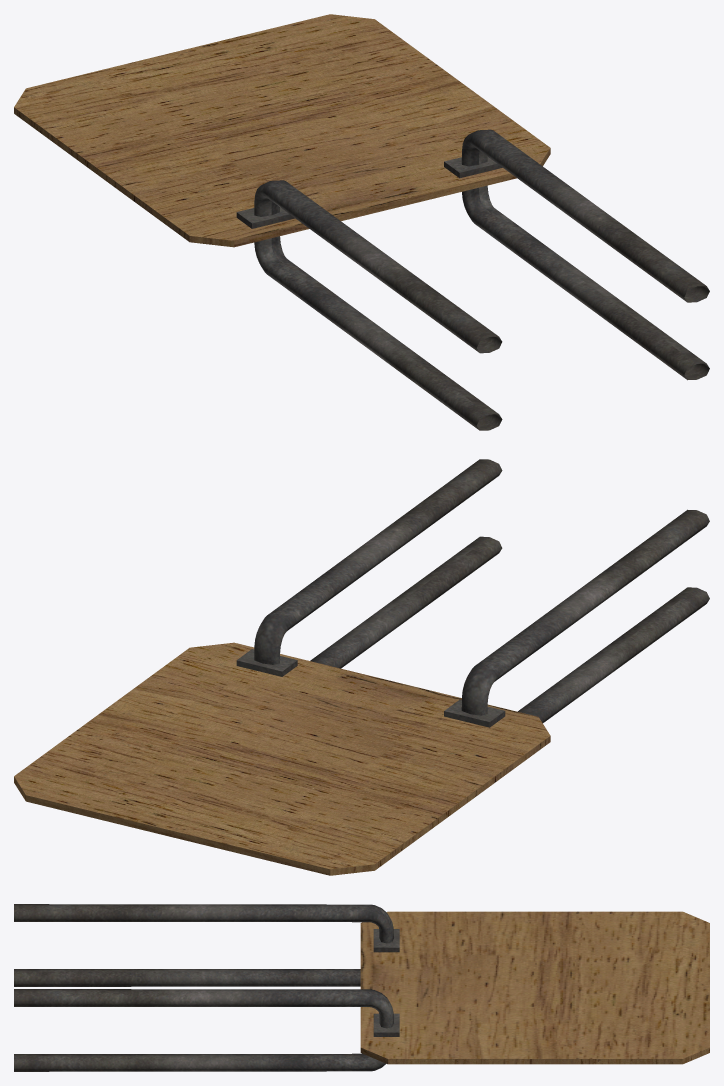
Rendered from military_target_static_(2).gltf.
The picture shows the model from 3 angles, top to bottom: view 1: azimuth 30°, elevation 25°; view 2: azimuth 150°, elevation 25°; view 3: azimuth 270°, elevation 25°; orthographic projection. The views are drawn at different scales.
Parts seen in each view (by area): view 1: Military Target Static (2); view 2: Military Target Static (2); view 3: Military Target Static (2).
Boxes of the visible parts, x1=… form: Military Target Static (2): x1=14, y1=14, x2=709, y2=430; Military Target Static (2): x1=14, y1=459, x2=709, y2=875; Military Target Static (2): x1=14, y1=904, x2=709, y2=1071.
Bounding box in the file's own units: 0.7673 × 0.1898 × 1.53.
Materials: 1 (1 with a texture image).
